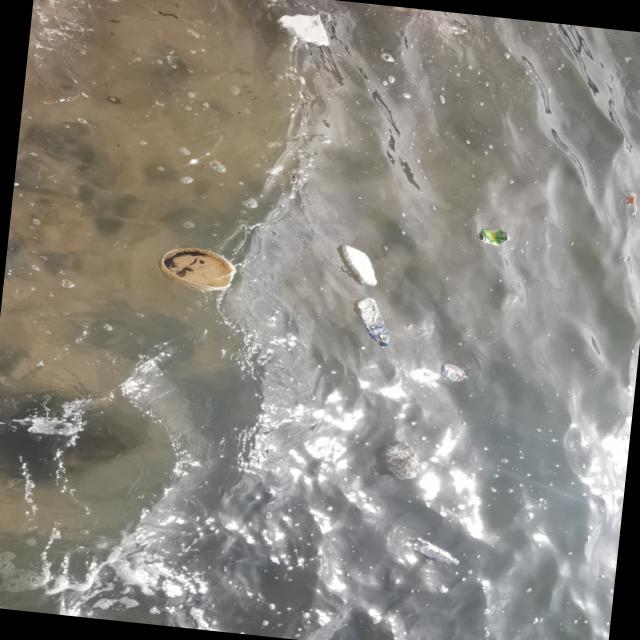can: (478, 229, 510, 248)
foam: (378, 439, 422, 481)
plastic bottle: (350, 297, 395, 348), (409, 538, 463, 567), (617, 190, 640, 222)
